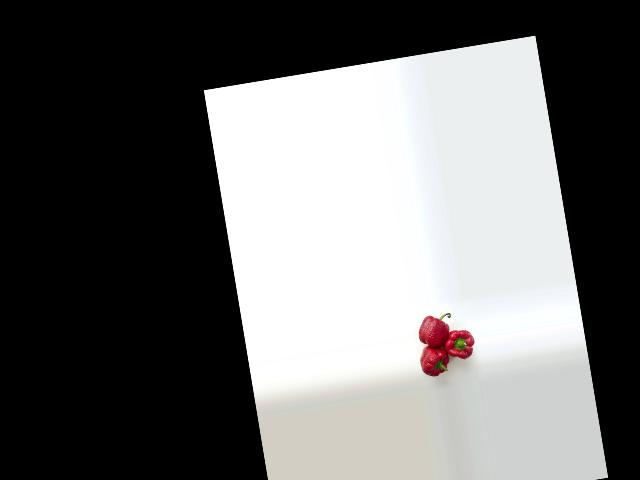bell_pepper: (413, 304, 456, 347)
